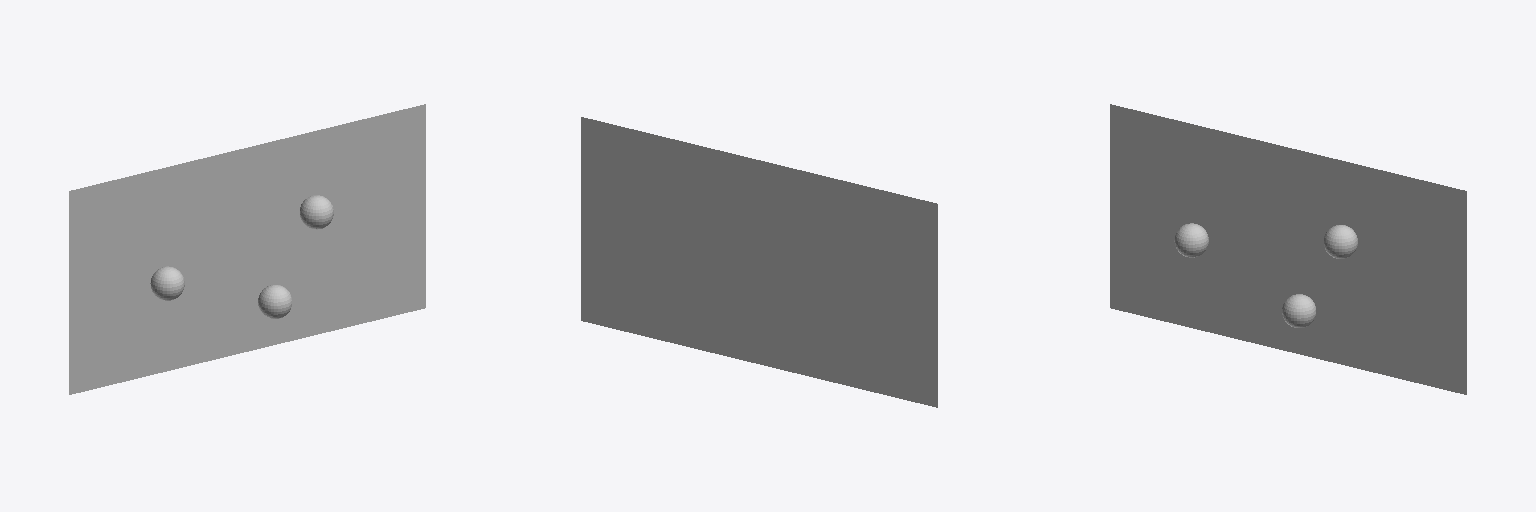
File: Solar system test.obj
The picture shows the model from 3 angles: view 1: azimuth 30°, elevation 25°; view 2: azimuth 150°, elevation 25°; view 3: azimuth 330°, elevation 25°; orthographic projection.
Visible parts, largest first — view 1: Plane, 3_Earth_Sphere.002, 1_Mercury_Sphere, 2_Venus_Sphere.001; view 2: Plane; view 3: Plane, 2_Venus_Sphere.001, 1_Mercury_Sphere, 3_Earth_Sphere.002.
Boxes of the visible parts, box(x1,y1,x2,y2) form: Plane: box(69, 104, 425, 394); 3_Earth_Sphere.002: box(258, 285, 291, 318); 1_Mercury_Sphere: box(300, 195, 333, 229); 2_Venus_Sphere.001: box(150, 266, 184, 300); Plane: box(581, 117, 937, 407); Plane: box(1110, 104, 1466, 394); 2_Venus_Sphere.001: box(1174, 223, 1208, 257); 1_Mercury_Sphere: box(1324, 225, 1357, 258); 3_Earth_Sphere.002: box(1282, 294, 1315, 327).
Size of the model in its own units: 23.89 by 13.06 by 2.